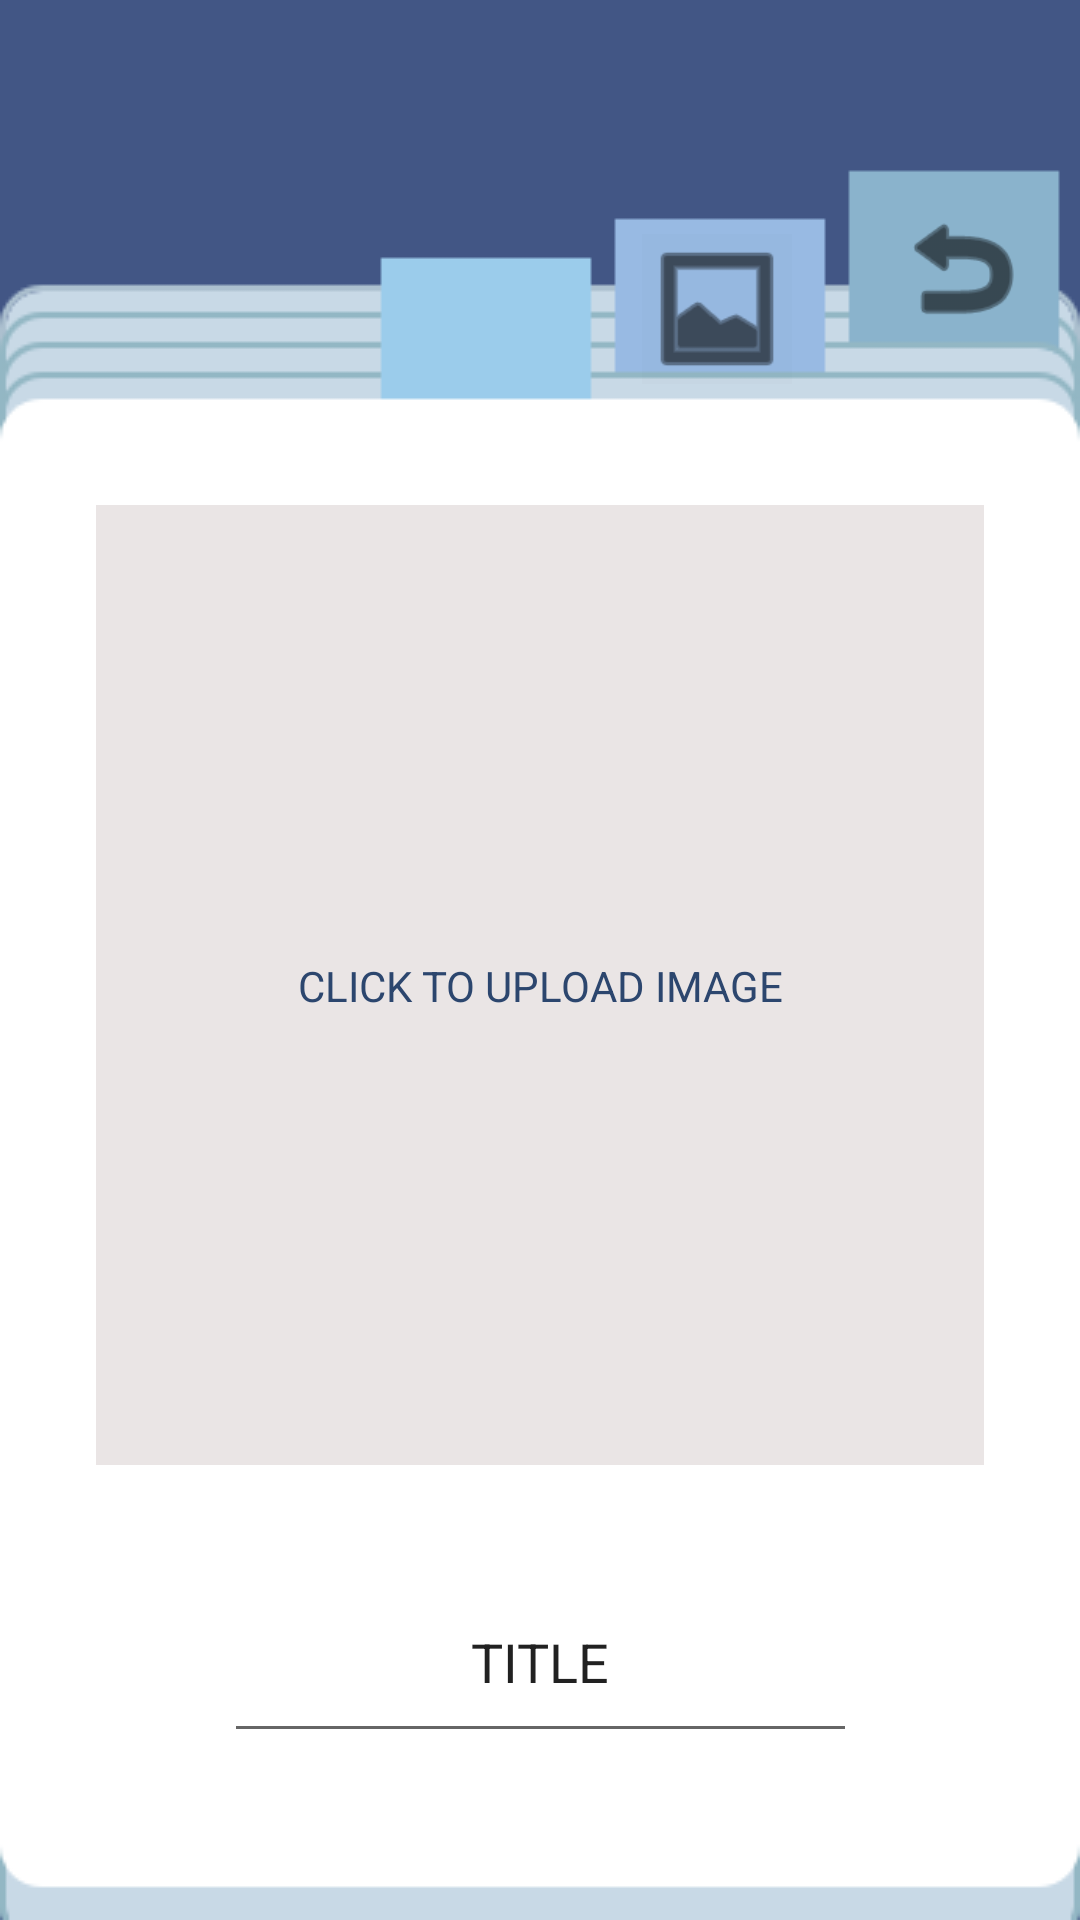

Where to tap for icons on this 1080 x 1920 app screen, as point (x, y):
revert: point (962, 274)
UPLOAD: point (717, 309)
